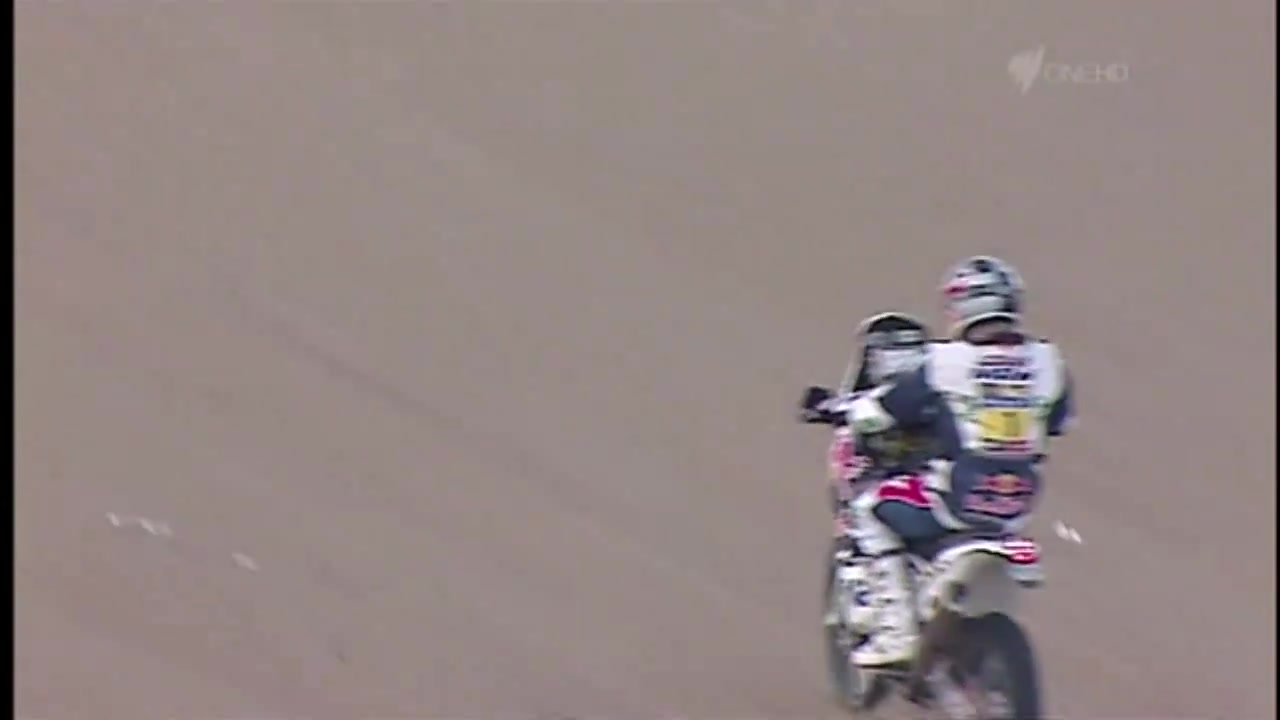motorbike: (800, 308, 1053, 717)
